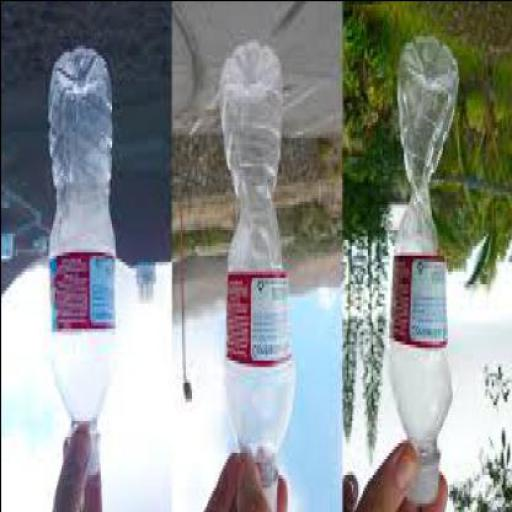plastic: (218, 40, 296, 510), (388, 42, 462, 502), (49, 48, 116, 484), (407, 452, 442, 506), (70, 426, 101, 480), (244, 476, 280, 511)
